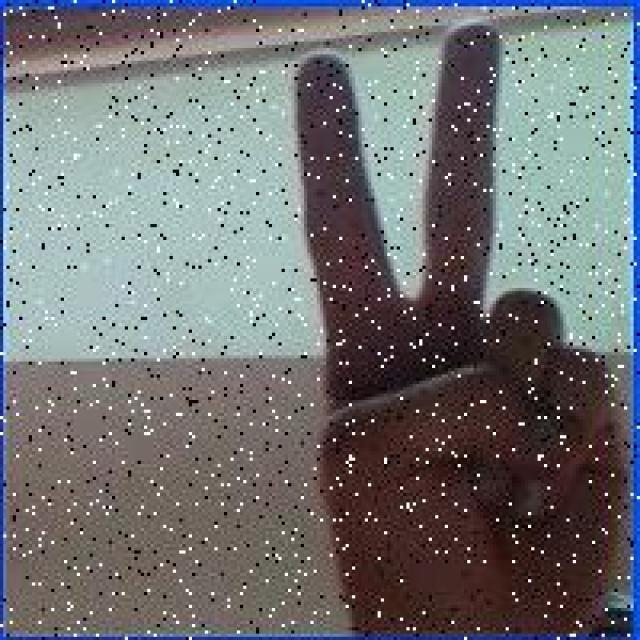V: (286, 18, 629, 632)
